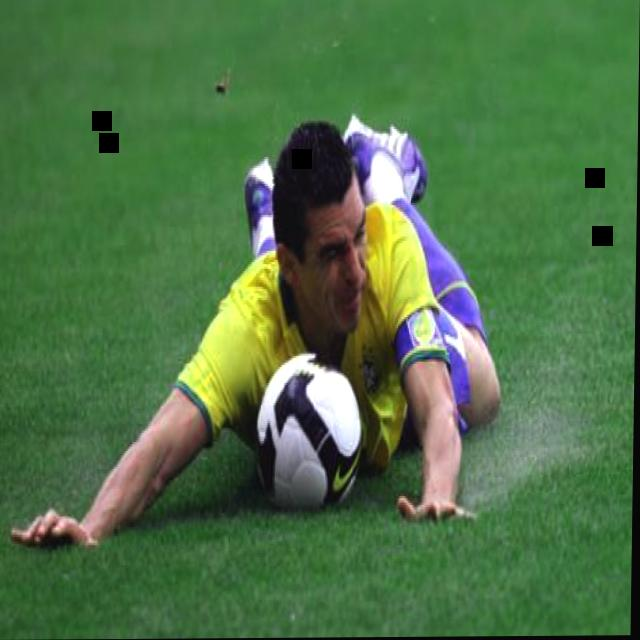Fall-Detected: (24, 67, 451, 563)
